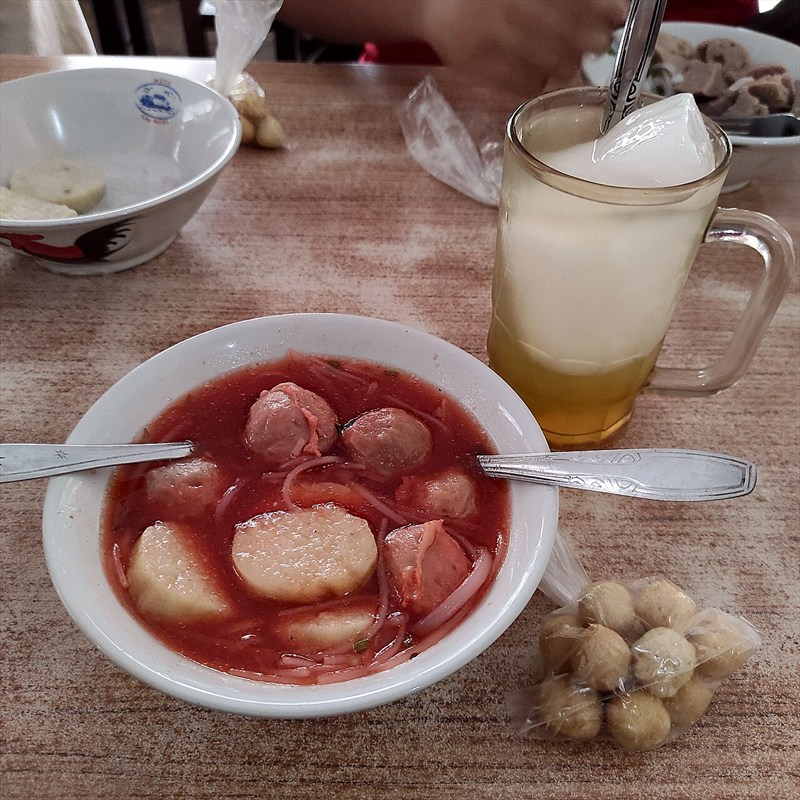Bakso: (77, 19, 698, 721)
